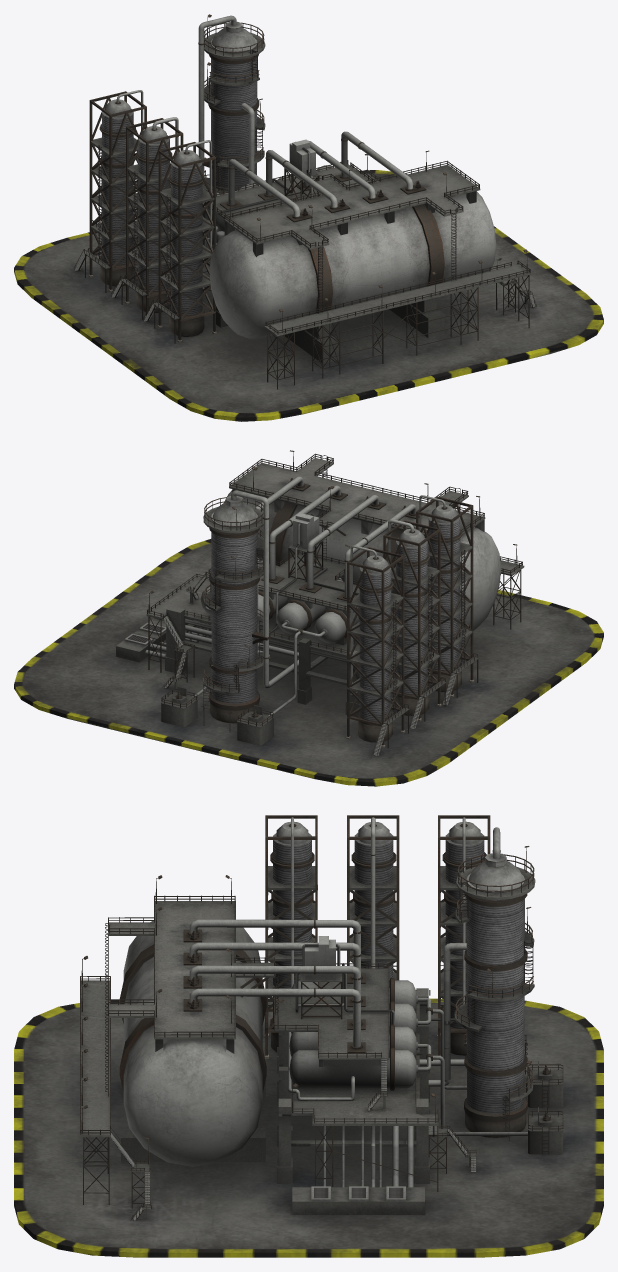
The picture shows the model from 3 angles, top to bottom: view 1: azimuth 30°, elevation 25°; view 2: azimuth 150°, elevation 25°; view 3: azimuth 270°, elevation 25°; orthographic projection. The views are drawn at different scales.
Parts seen in each view (by area): view 1: oil_refinery_06; view 2: oil_refinery_06; view 3: oil_refinery_06.
Part boxes in pixels (bbox=[...]): oil_refinery_06: bbox=[14, 14, 603, 421]; oil_refinery_06: bbox=[14, 450, 603, 786]; oil_refinery_06: bbox=[14, 815, 603, 1257].
Bounding box in the file's own units: 86.42 × 45.56 × 84.82.
Materials: 1 (1 with a texture image).
